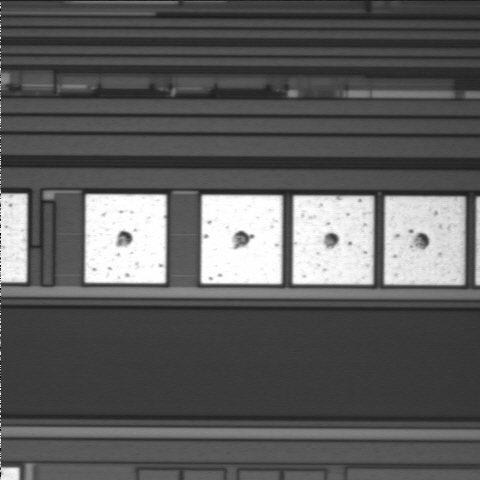pad: (201, 195, 283, 284), (292, 196, 374, 284), (85, 194, 166, 283), (384, 196, 465, 285)
